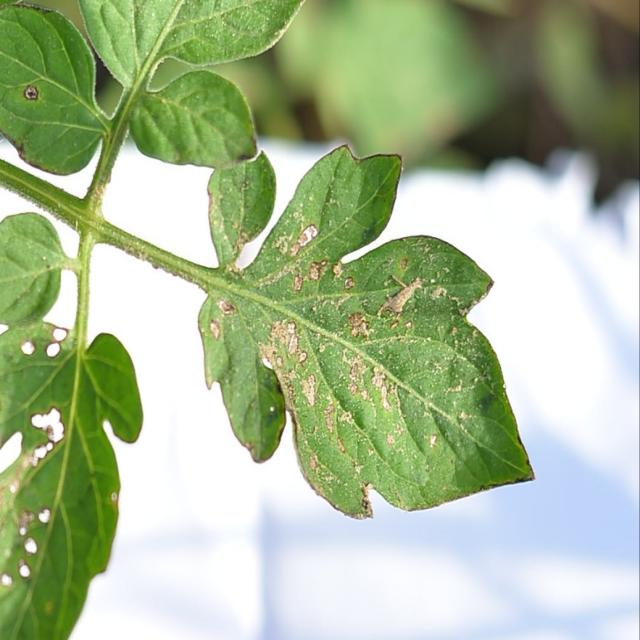infected: (208, 183, 537, 524), (0, 310, 127, 592), (4, 68, 50, 115)
